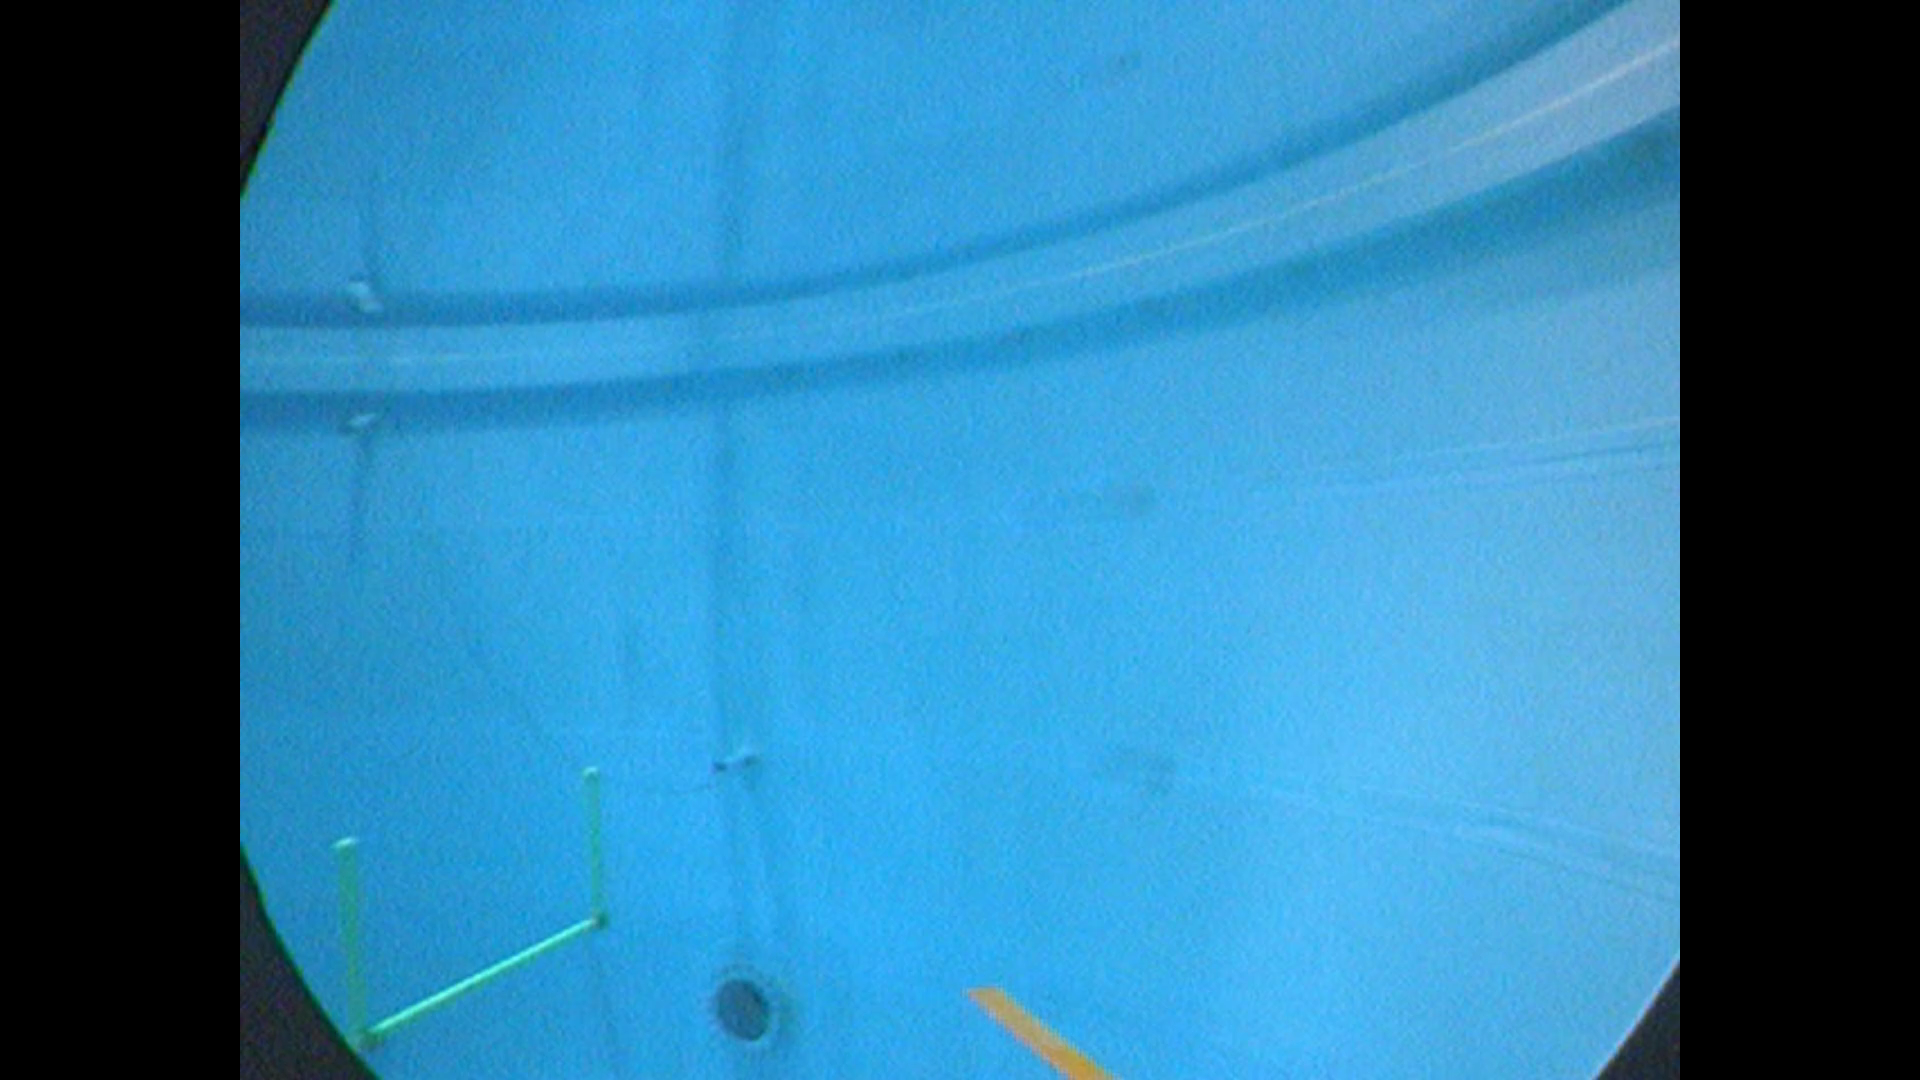gate: (331, 752, 613, 1065)
